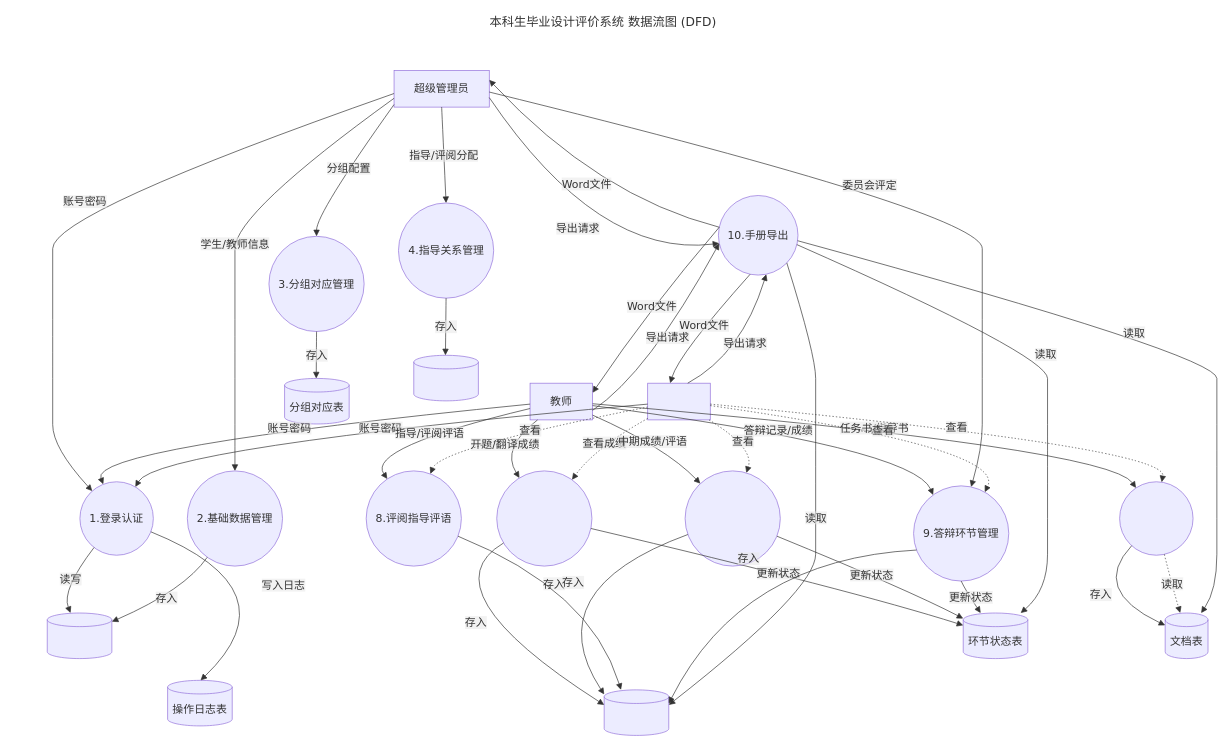
Some shapes in this 1229 by 747 pixel diagram are drawn without their labels. Each missing label, with the centre of its shape:
"5.文档管理" belongs at (1156,518).
"6.开题成绩管理" belongs at (544,518).
"7.中期检查管理" belongs at (732,518).
"学生" belongs at (678,401).
"师生关系表" belongs at (445,378).
"成绩记录表" belongs at (636,712).
"用户信息表" belongs at (79,635).
